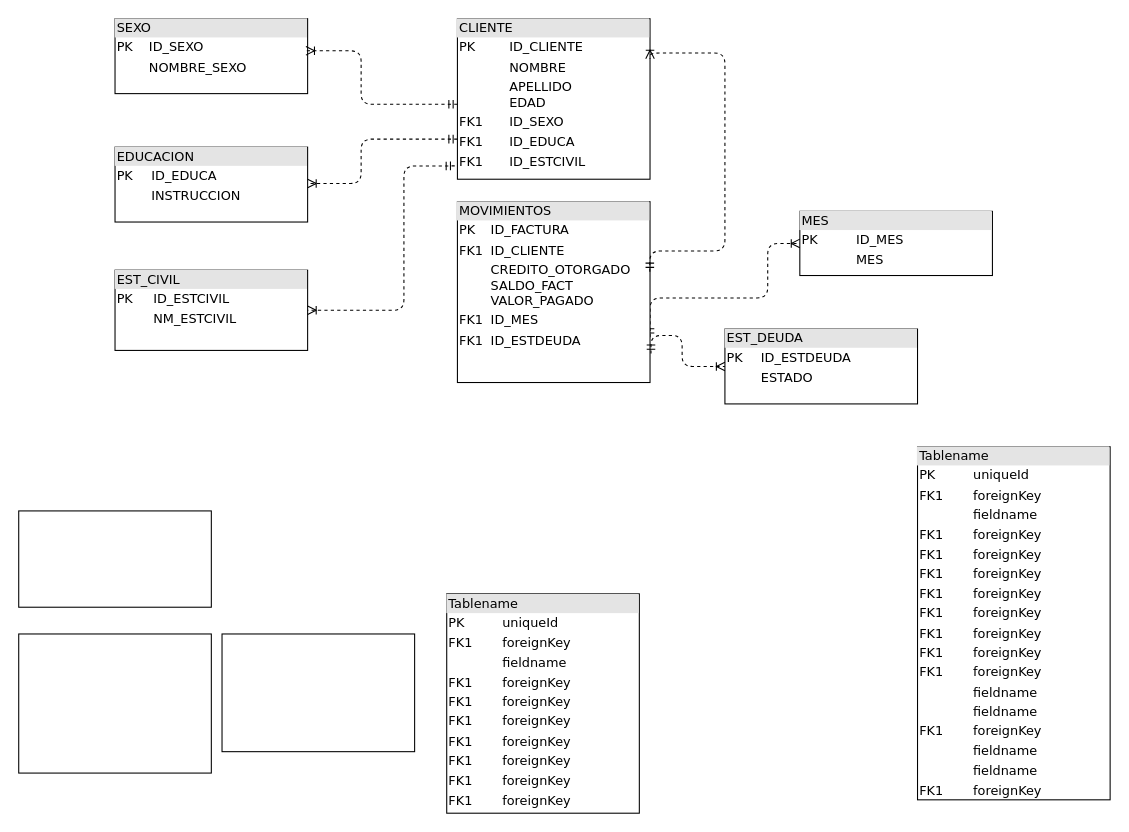
This 1129x832 diagram has some shape labels left out. The centre of each missing label's shape, as x and y in pixels:
Tablename PK uniqueId FK1 foreignKey fieldname fieldname: (114,558)
Tablename PK uniqueId FK1 foreignKey fieldname fieldname fieldname fieldname: (114,703)
Tablename PK uniqueId FK1 foreignKey fieldname fieldname FK1 foreignKey: (318,692)
